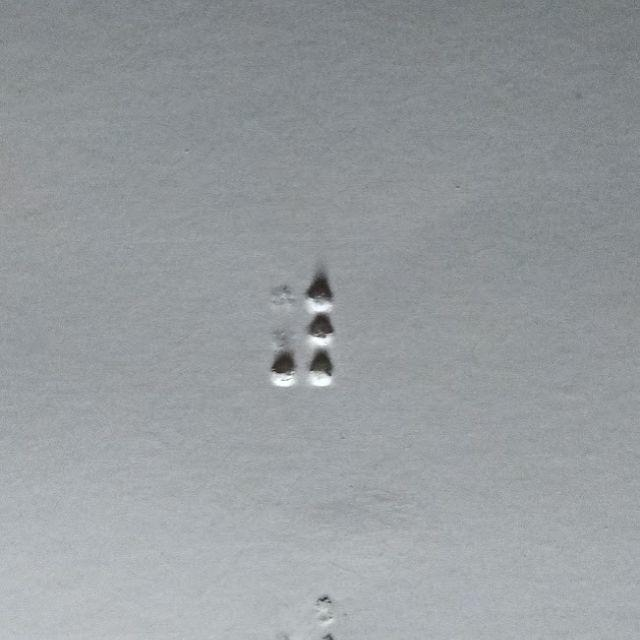at: (267, 275, 334, 386)
